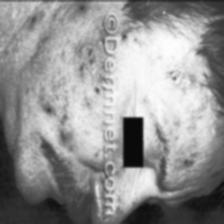Non-Cancerous Skin Condition: (34, 47, 74, 154), (173, 128, 203, 200), (0, 12, 30, 78), (155, 51, 179, 105), (83, 26, 95, 102)
